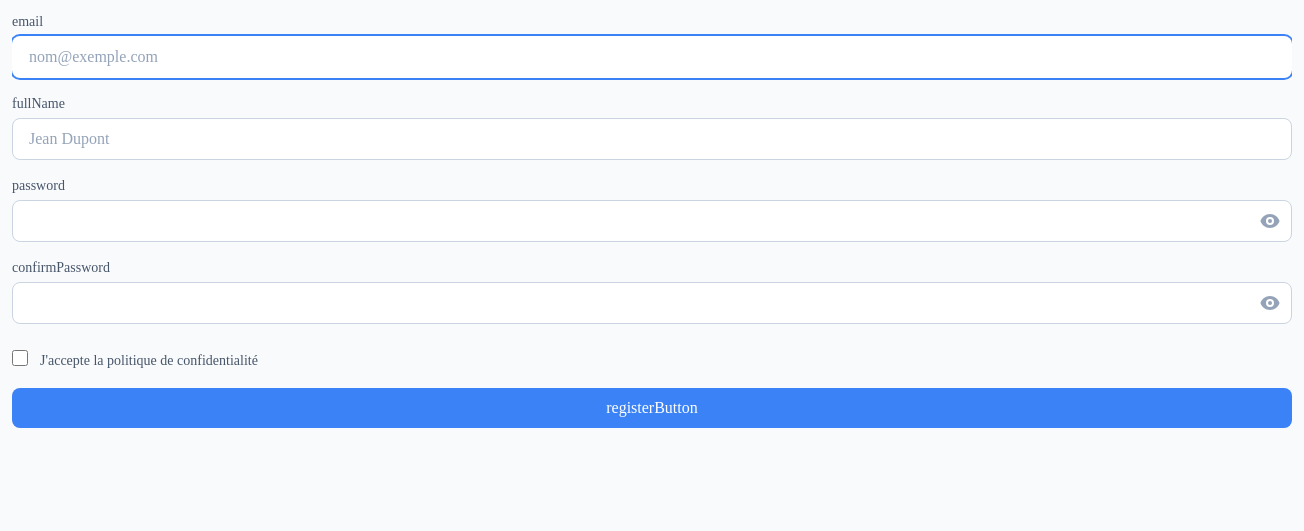
RegisterForm › shows error when email already exists
Type "existing@example.com" into the field labelled "email" at (652, 57), box [12,36,1292,78]
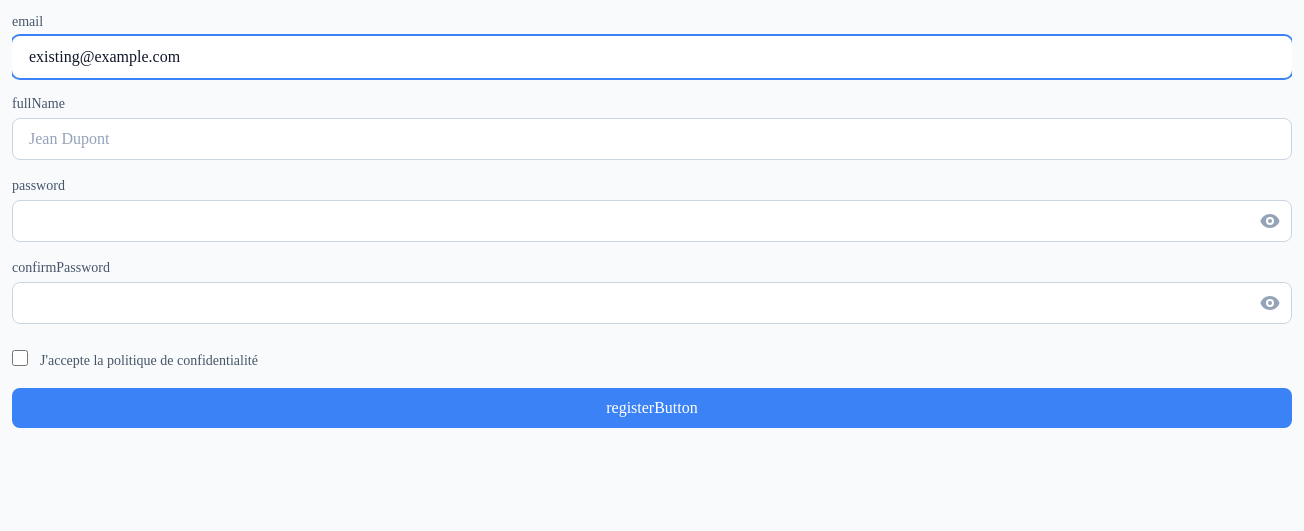
Type "securepassword123" into the password field labelled "password" at (652, 221), box [12,200,1292,242]
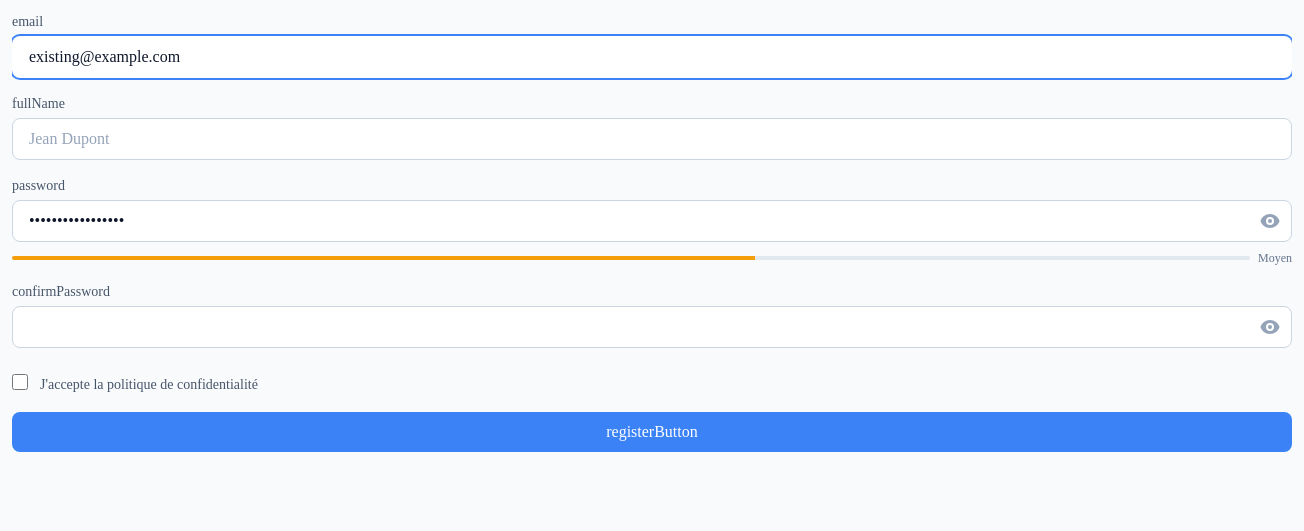
Type "securepassword123" into the password field labelled "confirmPassword" at (652, 327), box [12,306,1292,348]
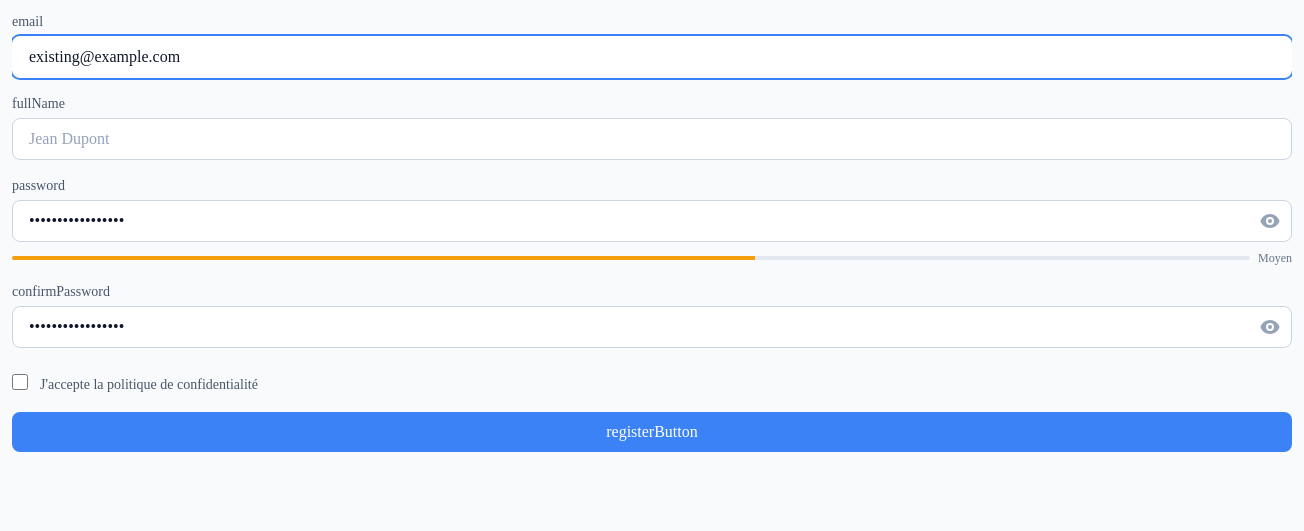
Click the checkbox at (20, 382), box [12,374,28,390]
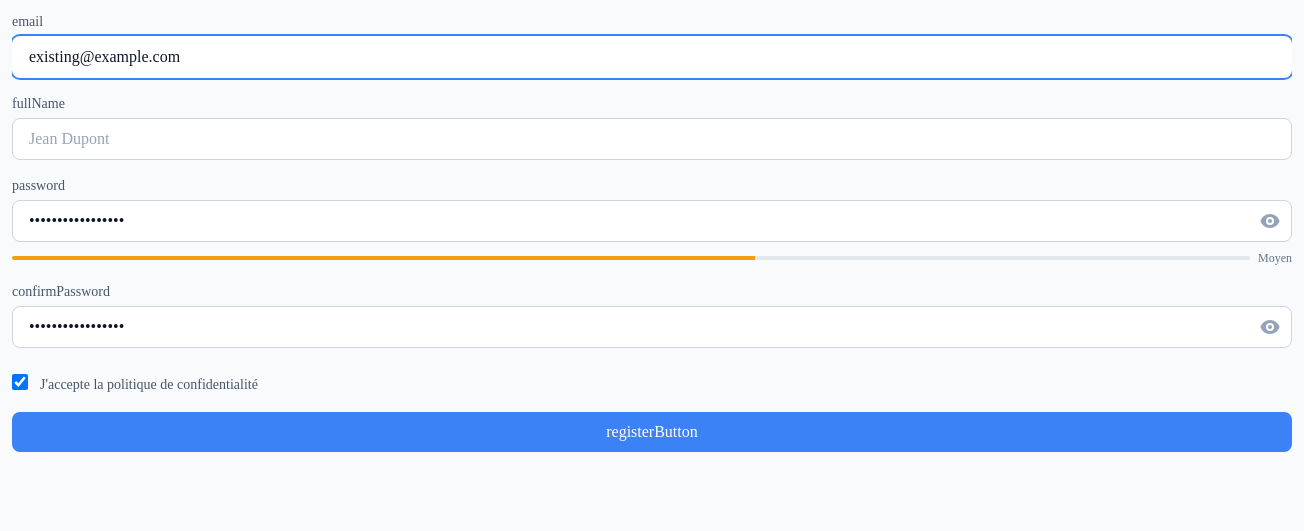
Click the button "registerButton" at (652, 432), box [12,412,1292,452]
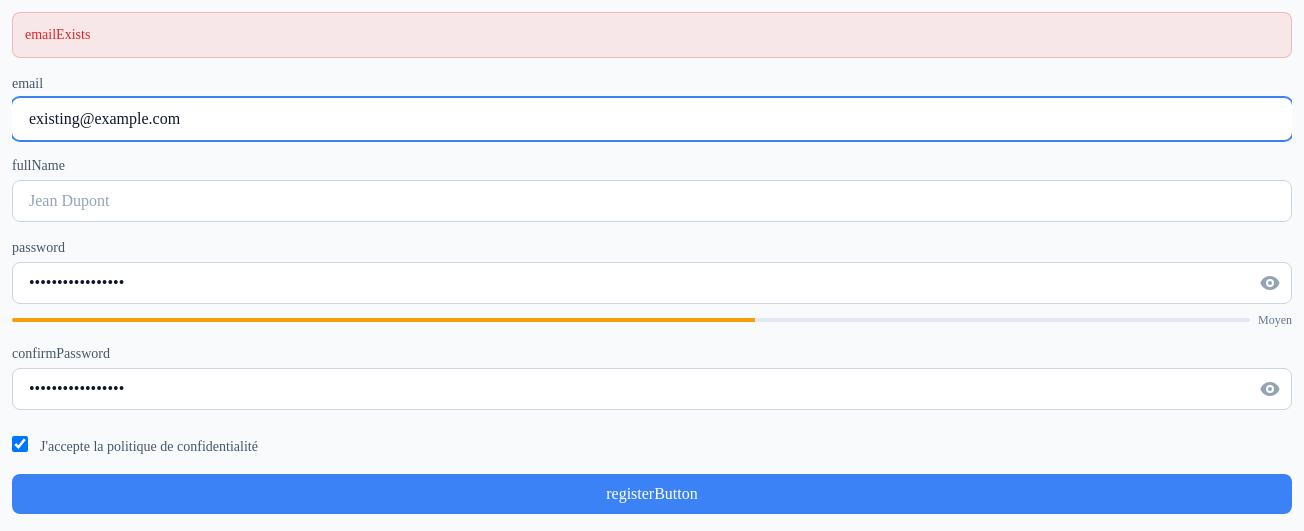
Now the text "emailExists" is shown, box [12,12,1292,58]
